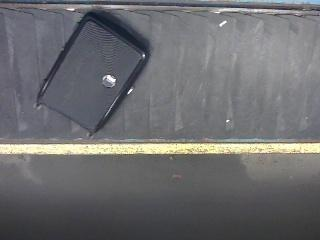Suitcase: (37, 13, 148, 136)
